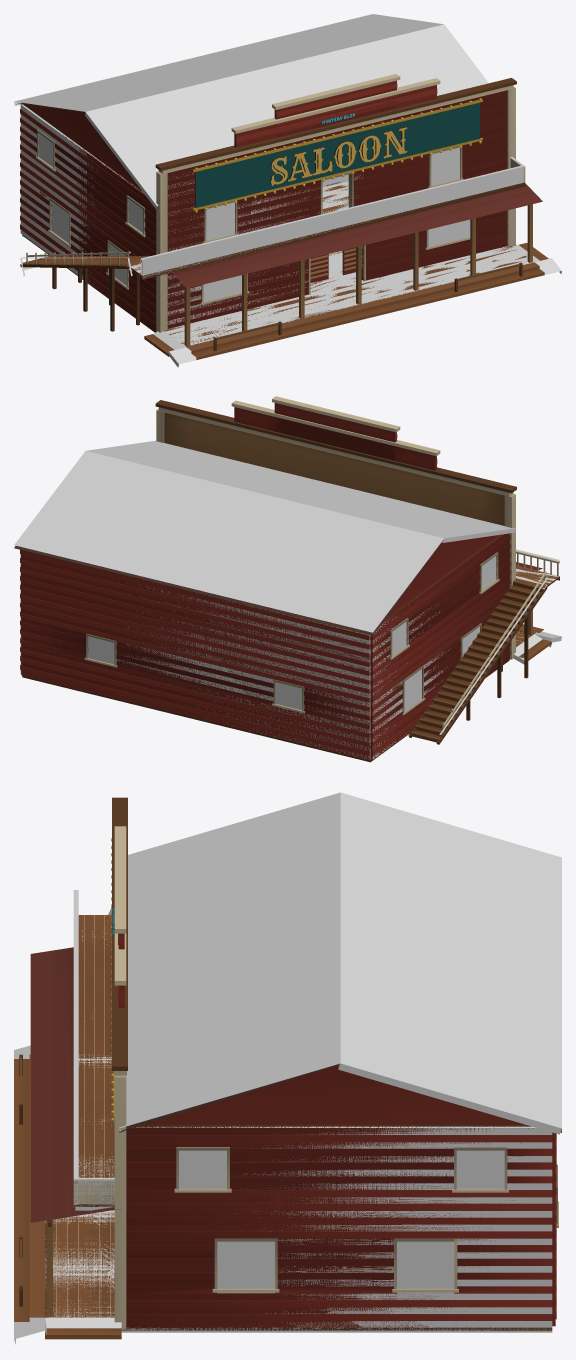
Rendered from saloon.glb.
3 renders of one model, top to bottom at view 1: azimuth 30°, elevation 25°; view 2: azimuth 150°, elevation 25°; view 3: azimuth 270°, elevation 25°, orthographic. The views are drawn at different scales.
Visible parts, largest first — view 1: saloon, COL_11, COL_10, COL_17, COL_12, COL_9, COL_1, COL_6, COL_0, COL_13, COL_21, DYN_doorL; view 2: saloon, COL_10, COL_11, COL_8, COL_9; view 3: saloon, COL_10, COL_11, COL_7, COL_12, COL_0, COL_17, COL_16, COL_15, COL_18, COL_13.
Part boxes in pixels (box(x1,y1,x2,y2)): saloon: box(16, 74, 548, 359); COL_11: box(85, 24, 488, 209); COL_10: box(14, 14, 443, 111); COL_17: box(140, 165, 524, 275); COL_12: box(165, 246, 533, 346); COL_9: box(20, 104, 142, 285); COL_1: box(167, 173, 309, 324); COL_6: box(428, 147, 470, 246); COL_0: box(22, 236, 355, 292); COL_13: box(168, 258, 561, 367); COL_21: box(322, 181, 348, 213); DYN_doorL: box(310, 254, 328, 282); saloon: box(14, 396, 559, 762); COL_10: box(14, 451, 443, 632); COL_11: box(86, 440, 515, 542); COL_8: box(88, 583, 370, 759); COL_9: box(372, 556, 496, 759); saloon: box(14, 797, 561, 1339); COL_10: box(338, 792, 561, 1134); COL_11: box(119, 792, 340, 1134); COL_7: box(136, 1126, 552, 1327); COL_12: box(45, 1210, 114, 1317); COL_0: box(121, 1327, 552, 1332); COL_17: box(73, 890, 78, 1204); COL_16: box(73, 915, 114, 1210); COL_15: box(45, 1317, 121, 1328); COL_18: box(73, 1178, 114, 1204); COL_13: box(14, 1045, 46, 1344).
Bounding box in the file's own units: 30.01 × 14.93 × 22.9.
